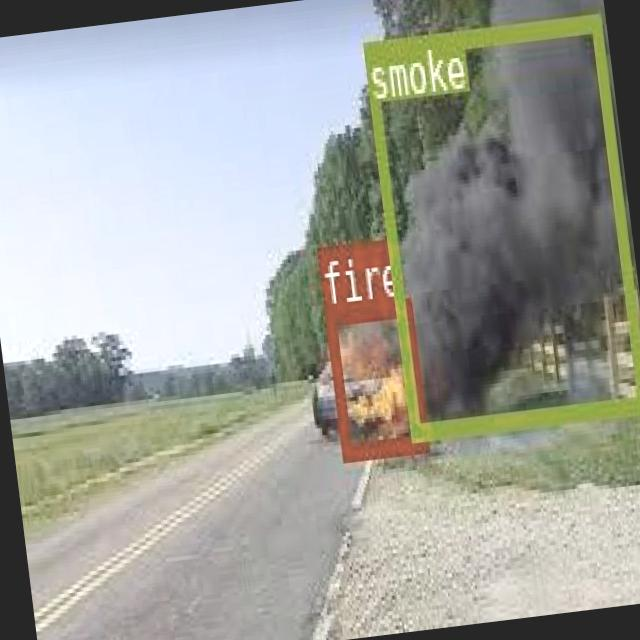fire: (322, 294, 426, 460)
smoke: (361, 11, 640, 439)
